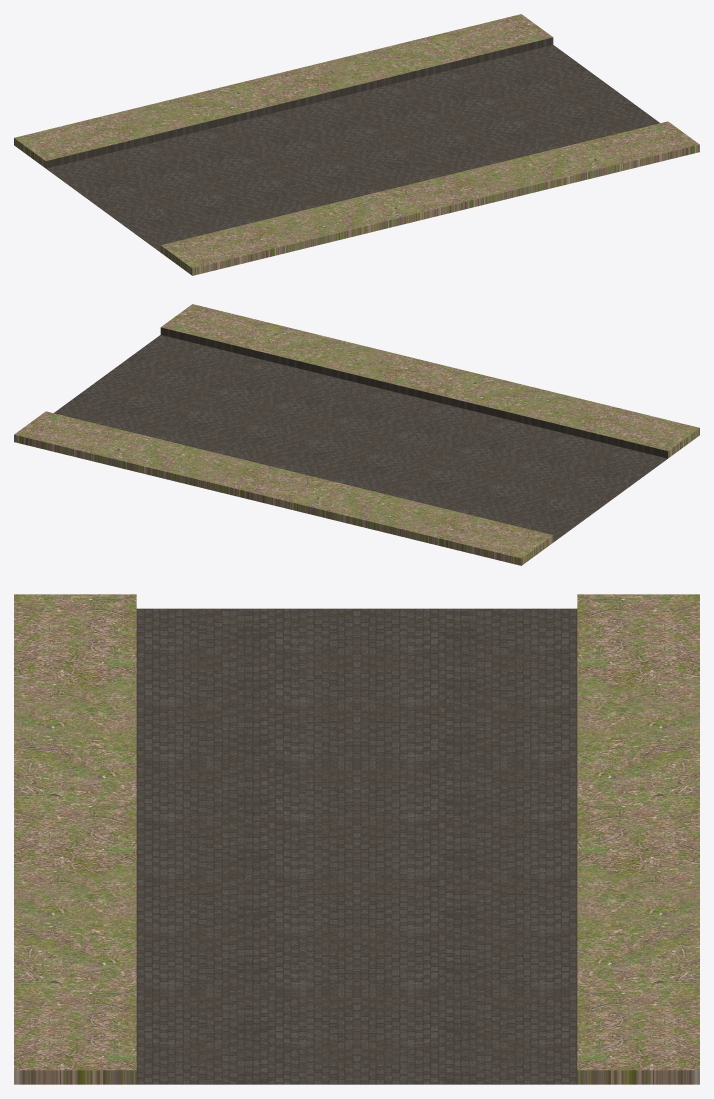
The picture shows the model from 3 angles, top to bottom: view 1: azimuth 30°, elevation 25°; view 2: azimuth 150°, elevation 25°; view 3: azimuth 270°, elevation 25°; orthographic projection. The views are drawn at different scales.
Parts seen in each view (by area): view 1: Plane; view 2: Plane; view 3: Plane.
Part boxes in pixels (x1=…): Plane: x1=14, y1=14, x2=699, y2=275; Plane: x1=14, y1=304, x2=699, y2=565; Plane: x1=14, y1=594, x2=699, y2=1084.
Size of the model in its own units: 328 by 4.6 by 200.
